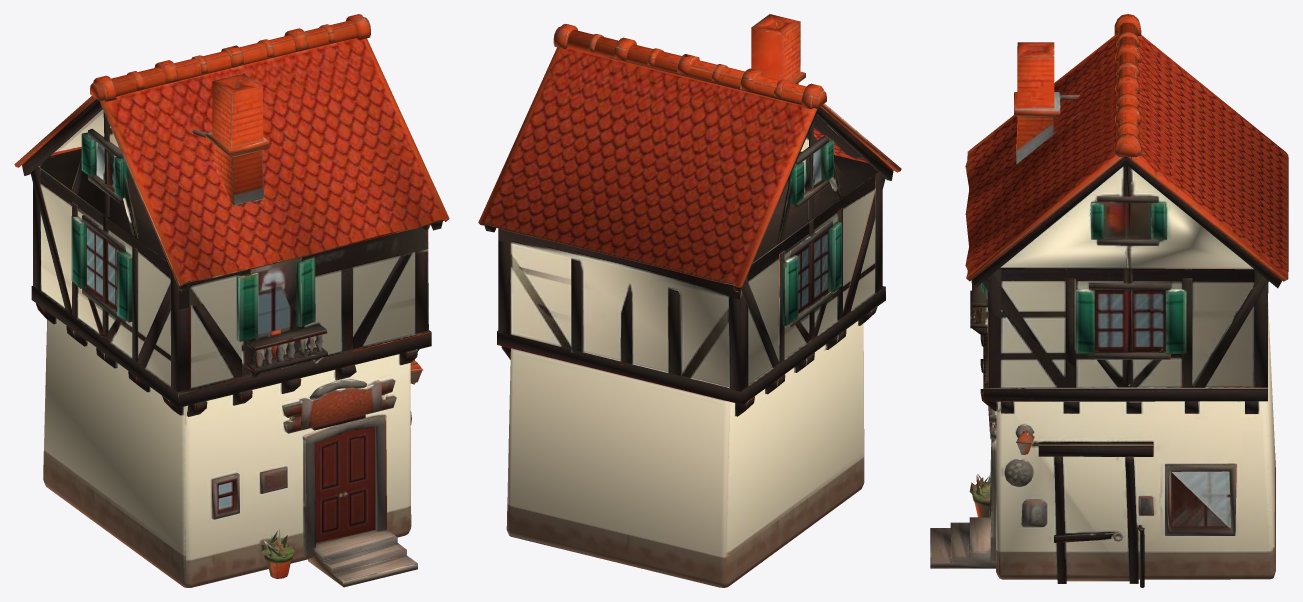
Rendered from townHouse.glb.
3 views of the same model, side by side, from view 1: azimuth 30°, elevation 25°; view 2: azimuth 150°, elevation 25°; view 3: azimuth 270°, elevation 25° (orthographic). The views are drawn at different scales.
Bounding box in the file's own units: 0.5698 × 0.9526 × 0.6723.
1 material, 1 textured.
